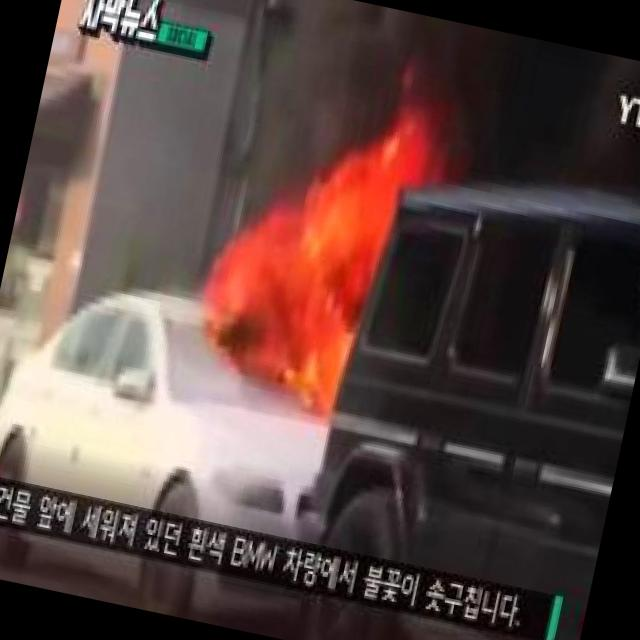Fire: (200, 116, 436, 403)
